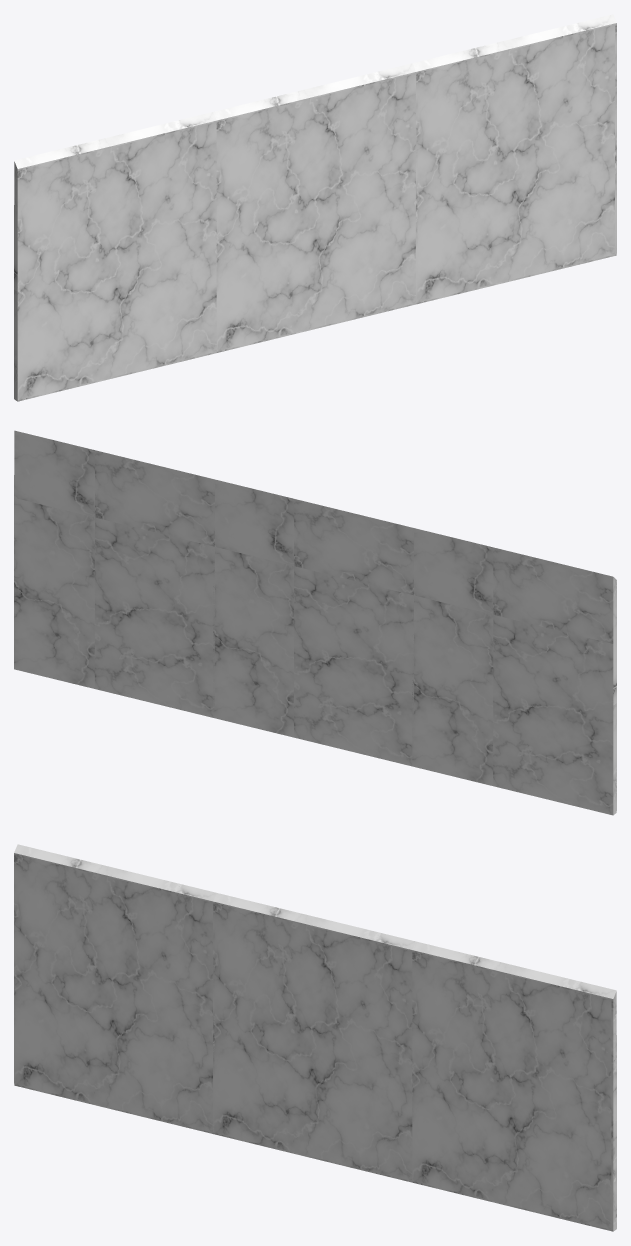
Rendered from Wall Tiles 3.fbx.
3 renders of one model, top to bottom at view 1: azimuth 30°, elevation 25°; view 2: azimuth 150°, elevation 25°; view 3: azimuth 330°, elevation 25°, orthographic.
Visible parts, largest first — view 1: Plane.011; view 2: Plane.011; view 3: Plane.011.
Part boxes in pixels (box(x1,y1,x2,y2)): Plane.011: box(14, 14, 616, 401); Plane.011: box(14, 430, 616, 815); Plane.011: box(14, 844, 616, 1231).
Size of the model in its own units: 507 by 193 by 5.46.
